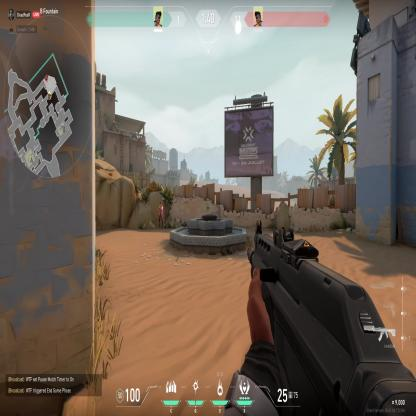enemy: (157, 201, 164, 230)
